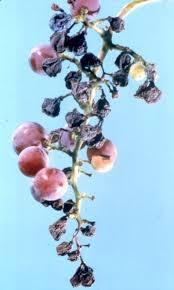Grape Rotten: (13, 0, 160, 286)
